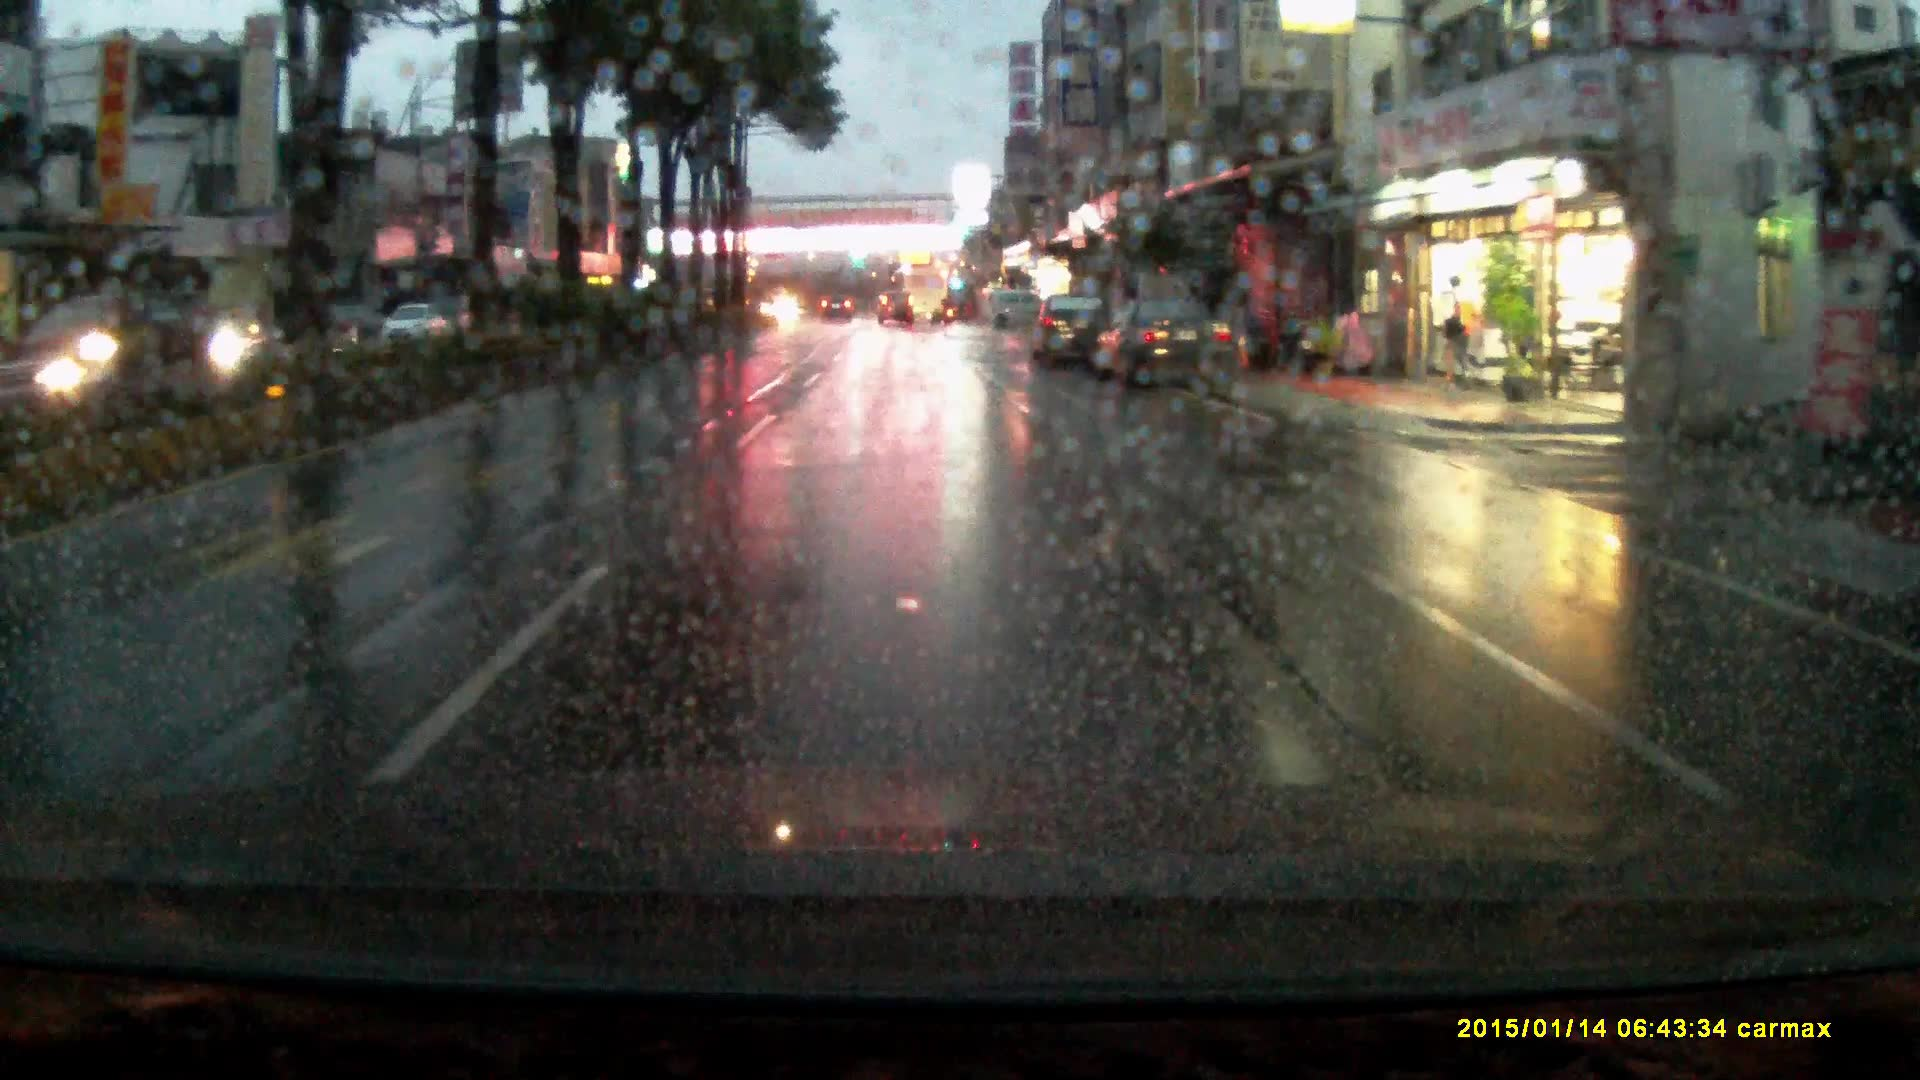rider: (71, 287, 161, 431)
vehicle: (1090, 303, 1240, 398), (1027, 300, 1114, 379), (263, 315, 353, 366), (893, 272, 947, 331), (980, 295, 1044, 336), (384, 308, 444, 349), (877, 299, 916, 334), (820, 300, 857, 329)
